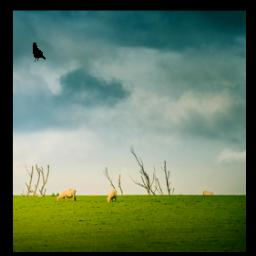Crow: (31, 43, 46, 62)
